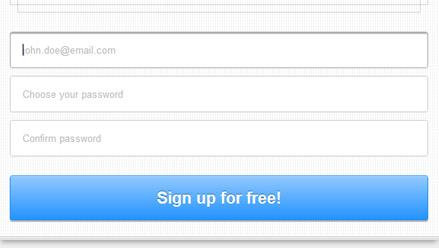button: (8, 172, 431, 223)
field: (7, 30, 431, 70), (8, 119, 431, 159), (8, 75, 431, 113)
